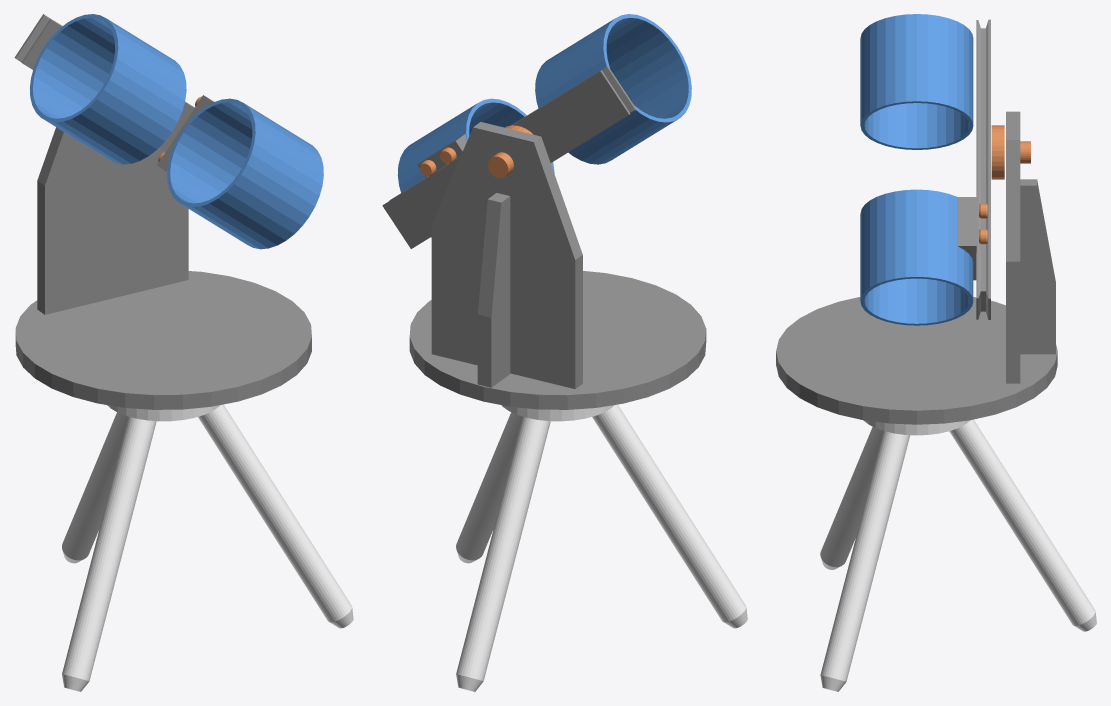
3 renders of one model, left to right at view 1: azimuth 30°, elevation 25°; view 2: azimuth 150°, elevation 25°; view 3: azimuth 270°, elevation 25°, orthographic. The views are drawn at different scales.
Visible parts, largest first — view 1: Base, Tripod, TopAndRail, LowEnd; view 2: Base, TopAndRail, Tripod, LowEnd; view 3: Base, TopAndRail, Tripod, LowEnd.
Part boxes in pixels (x1,y1,x2,y2): Base: [15, 127, 311, 409]; Tripod: [62, 404, 353, 691]; TopAndRail: [14, 14, 194, 164]; LowEnd: [157, 95, 323, 249]; Base: [409, 122, 706, 409]; TopAndRail: [382, 14, 691, 248]; Tripod: [456, 404, 747, 691]; LowEnd: [397, 98, 554, 237]; Base: [776, 111, 1057, 424]; TopAndRail: [860, 14, 990, 319]; Tripod: [820, 419, 1096, 691]; LowEnd: [860, 189, 987, 325].
Size of the model in its own units: 0.5662 by 1.15 by 0.5679.
